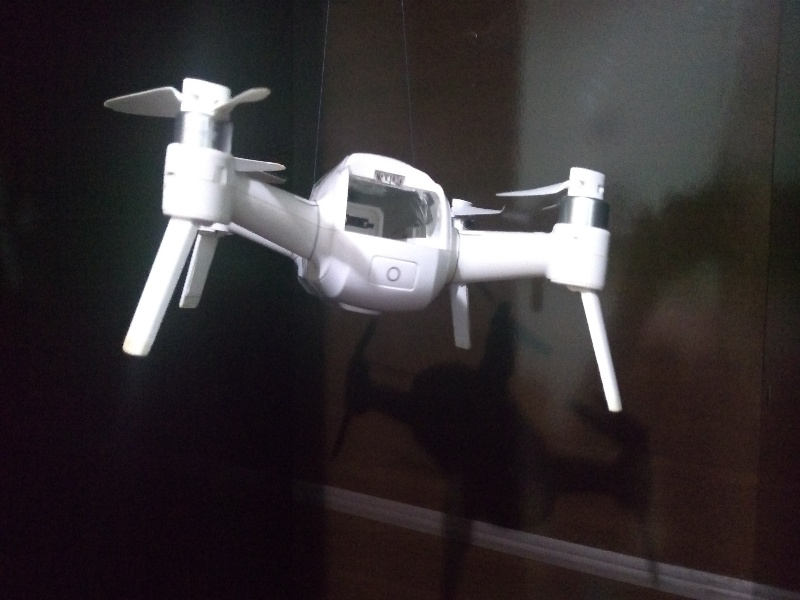drone: (93, 66, 633, 417)
